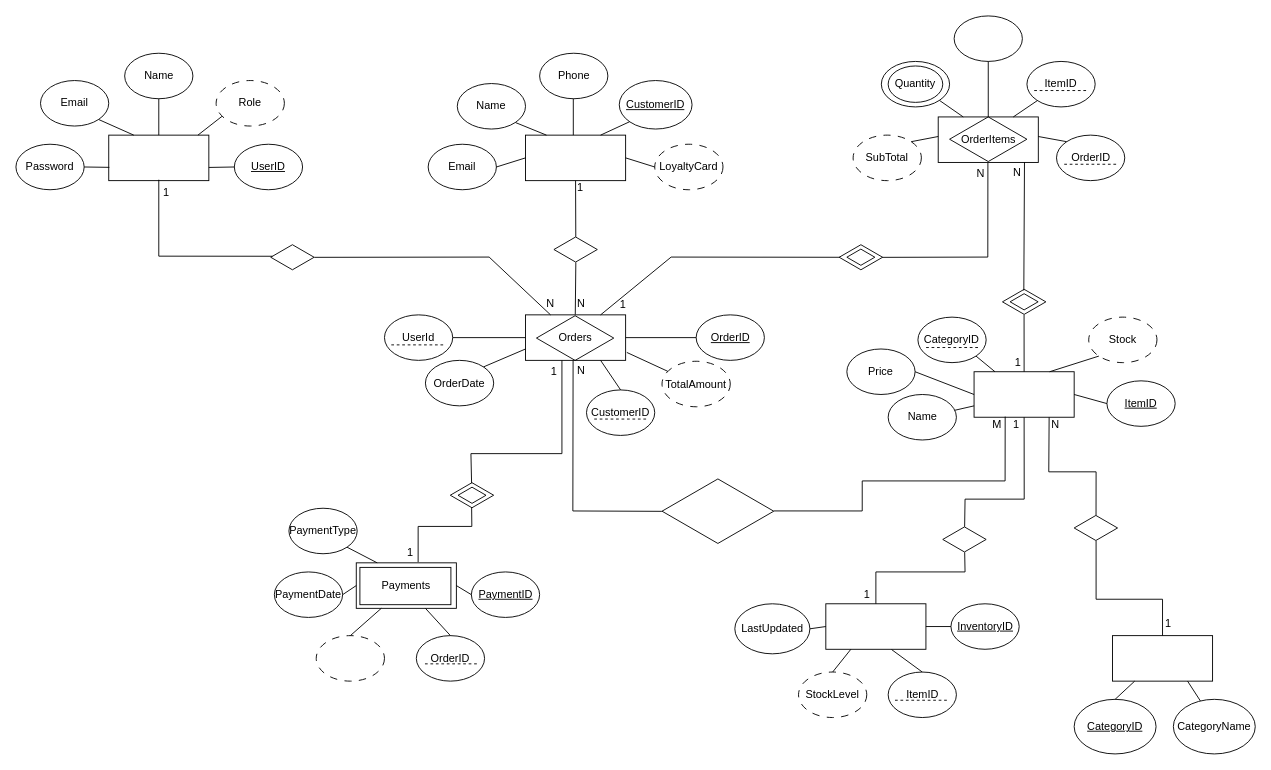
Some shapes in this 1271 by 770 pixel diagram are drawn without their labels. The centre of each missing label's shape, as x and y in pixels:
"Amount" goes at point 349,658.
"Category" goes at point 1162,658.
"Customers" goes at point 575,157.
"Inventory" goes at point 875,626.
"Items" goes at point 1023,394.
"OrderItemID" goes at point 987,38.
"Users" goes at point 158,157.
"чрез ОrderItems" goes at point 717,511.
